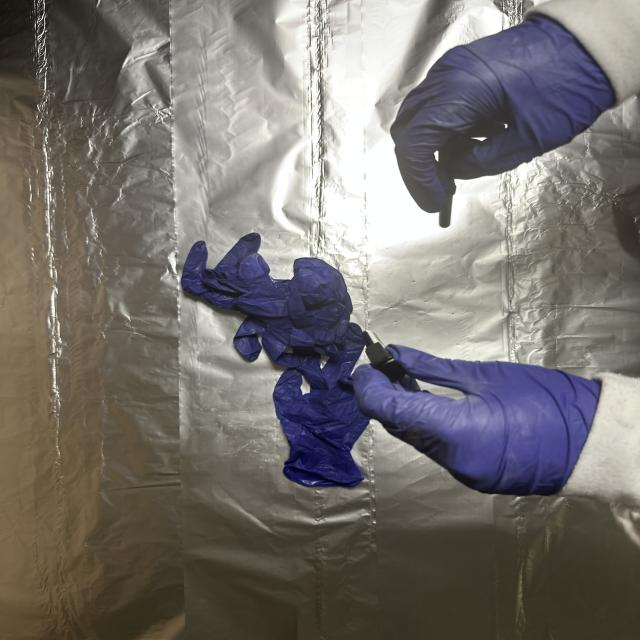gloves_contaminated: (391, 18, 614, 212), (353, 345, 604, 495)
